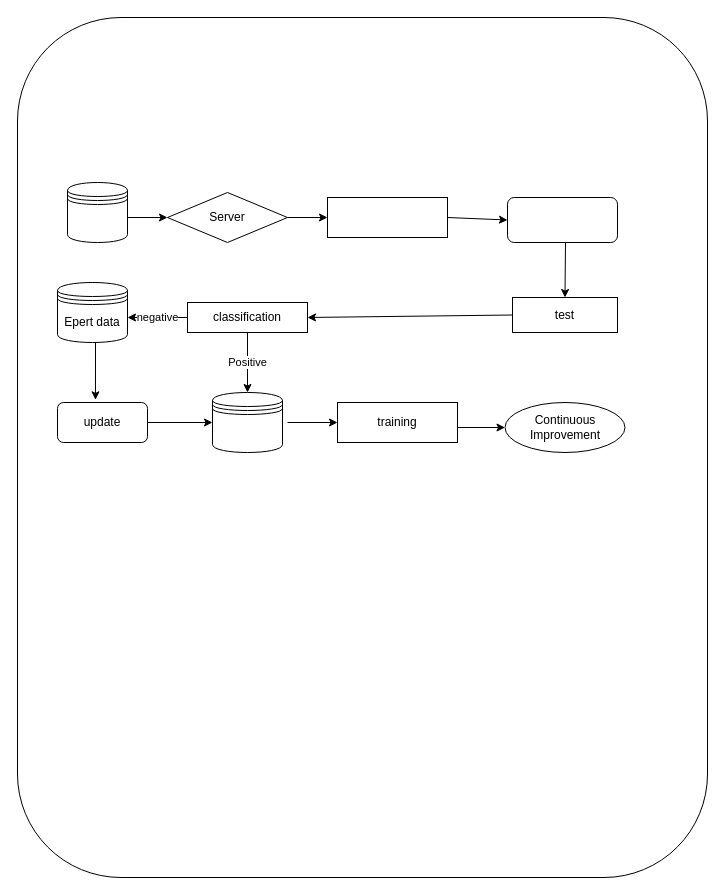
Some shapes in this 725 by 895 pixel diagram are drawn without their labels. The box of each missing label's shape, as (x1, y1, x2, y2) in pixels:
CSV format: (326, 196, 448, 238)
data: (66, 182, 128, 242)
Data pre-processing: (506, 196, 618, 242)
Final data: (212, 392, 282, 452)
